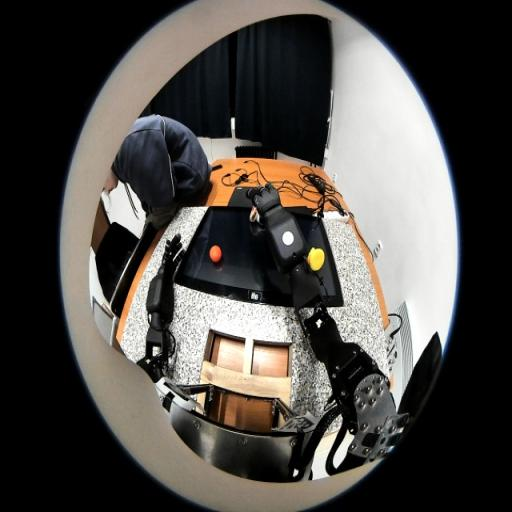Duck: (307, 247, 325, 271)
LeftHand: (162, 254, 176, 272)
Mushroom: (250, 205, 259, 222)
Orange: (209, 245, 222, 262)
RightHand: (254, 188, 280, 208)
